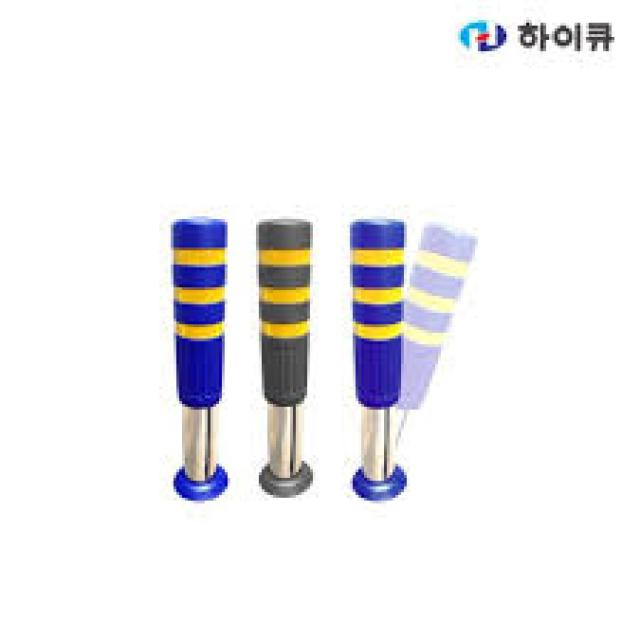bollard: (160, 211, 239, 505), (341, 207, 415, 508), (248, 213, 318, 513)
